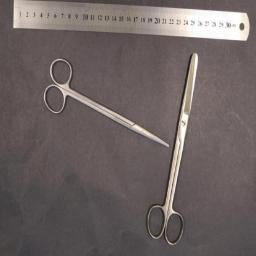Dressing Scissors: (146, 52, 198, 248)
